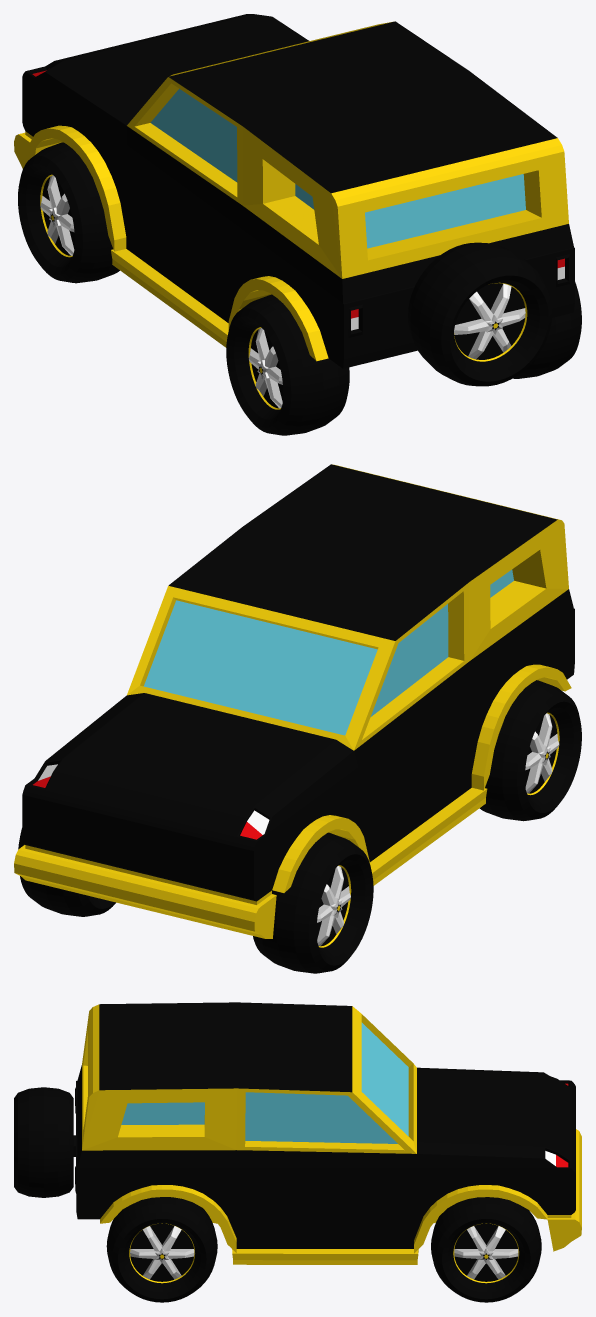
File: GrandpaRoller.fbx
3 views of the same model, one above another, from view 1: azimuth 30°, elevation 25°; view 2: azimuth 150°, elevation 25°; view 3: azimuth 270°, elevation 25° (orthographic). The views are drawn at different scales.
Parts seen in each view (by area): view 1: Cube; view 2: Cube; view 3: Cube.
Part boxes in pixels (x1,y1,x2,y2): Cube: (14, 14, 581, 435); Cube: (14, 464, 581, 973); Cube: (14, 1002, 581, 1302).
Bounding box in the file's own units: 191 × 404 × 163.
